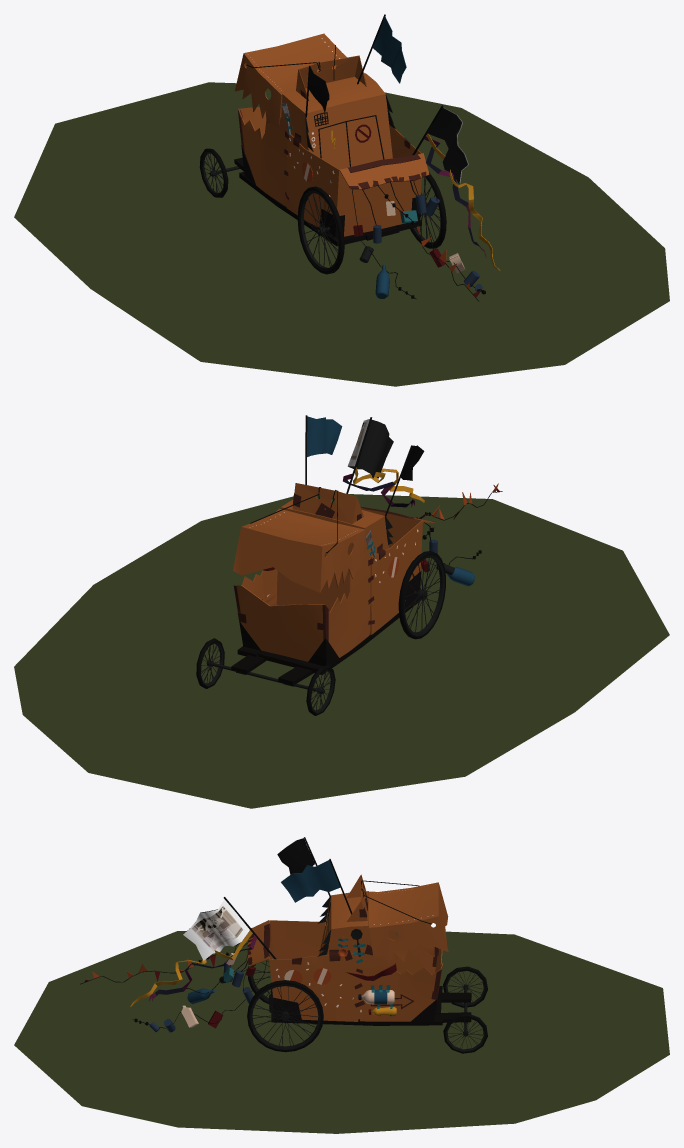
The model's file is cardboard venicle.fbx.
3 views of the same model, one above another, from view 1: azimuth 30°, elevation 25°; view 2: azimuth 150°, elevation 25°; view 3: azimuth 270°, elevation 25° (orthographic). The views are drawn at different scales.
Visible parts, largest first — view 1: polySurface1781; view 2: polySurface1781; view 3: polySurface1781.
Boxes of the visible parts, x1=… form: polySurface1781: x1=14, y1=14, x2=669, y2=386; polySurface1781: x1=14, y1=415, x2=669, y2=808; polySurface1781: x1=14, y1=837, x2=669, y2=1133.
Size of the model in its own units: 23.51 by 9.98 by 31.6.
Materials: 20 (1 with a texture image).
